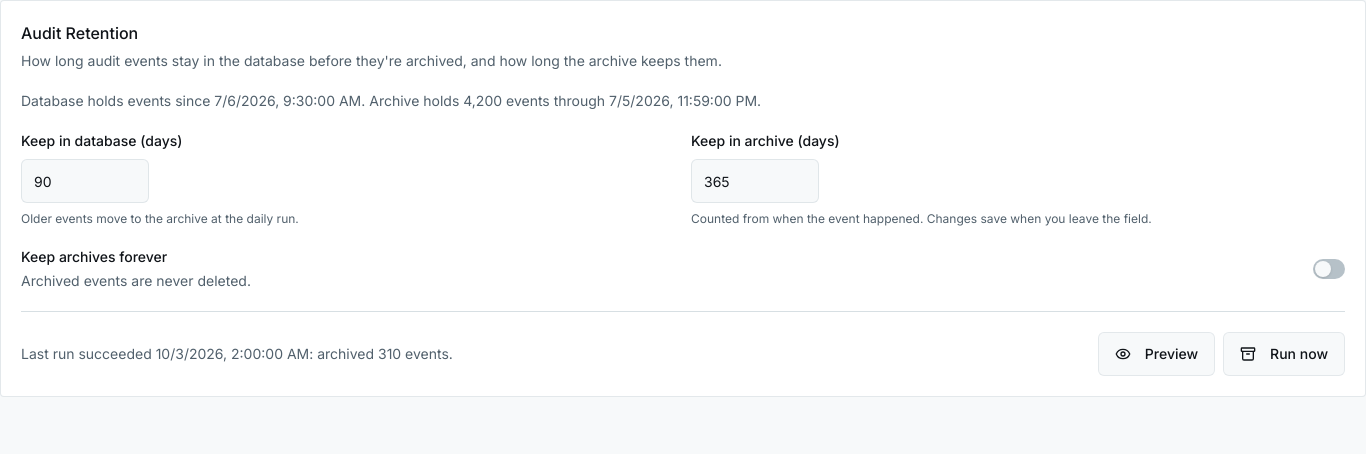
it: AuditRetentionSettings › refuses an archive window shorter than the database window
Expected: the number field labelled "Keep in database (days)" is enabled, [21,159,149,203]
Replace the text in the number field labelled "Keep in archive (days)" with "30" at (755, 181), box [691,159,819,203]
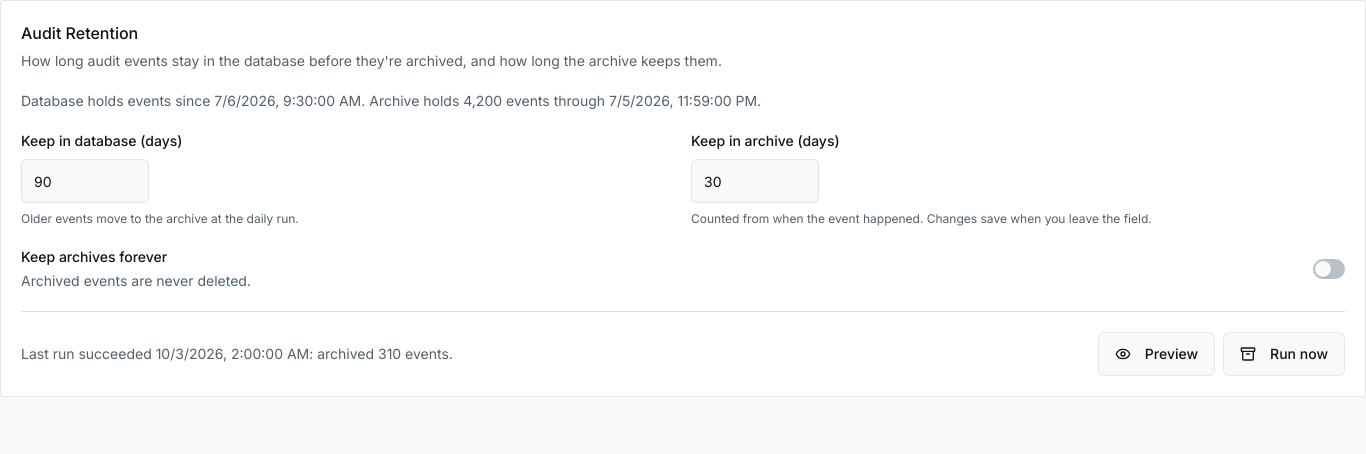
Leave the number field labelled "Keep in archive (days)", box [691,159,819,203]
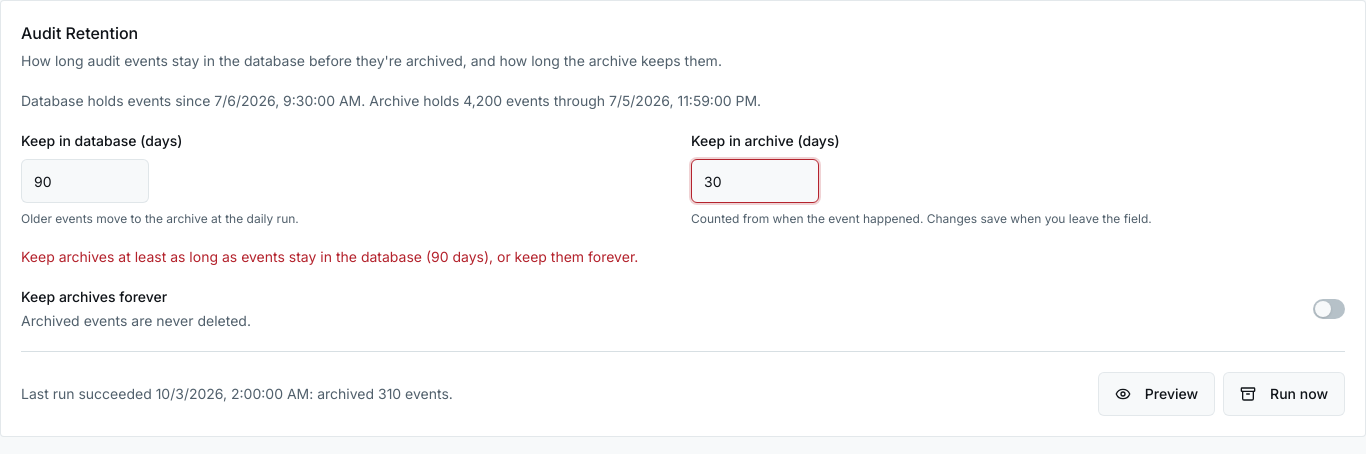
Now the message shows "at least as long as events stay in the database (90 days)", box [21,248,638,265]
